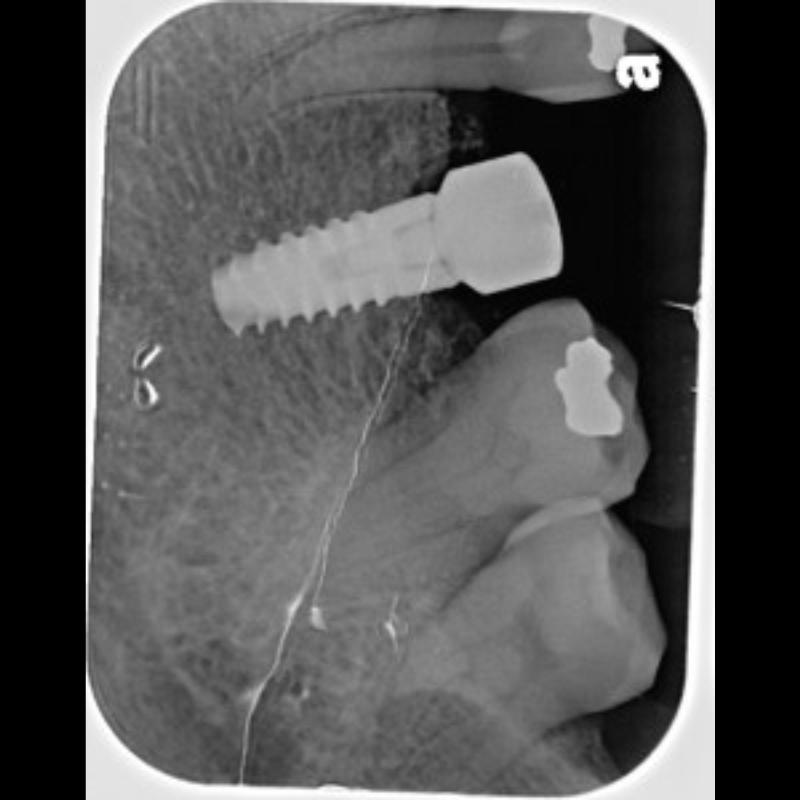MIS: (201, 140, 580, 351)
